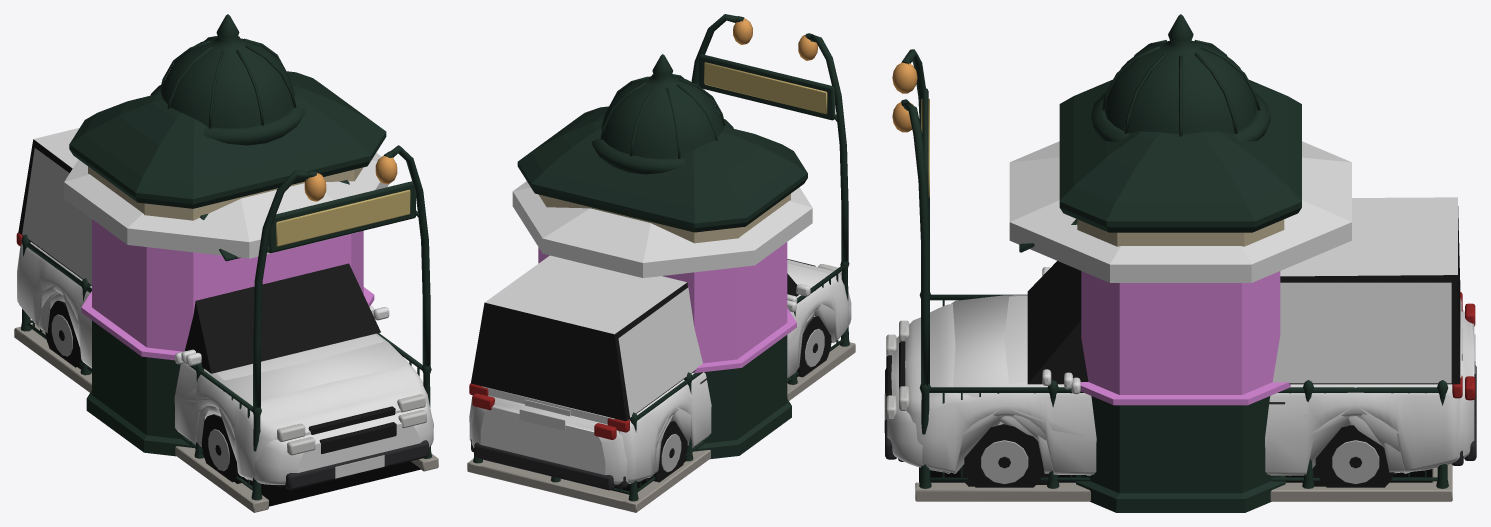
Rendered from street.glb.
3 renders of one model, left to right at view 1: azimuth 30°, elevation 25°; view 2: azimuth 150°, elevation 25°; view 3: azimuth 270°, elevation 25°, orthographic. The views are drawn at different scales.
Visible parts, largest first — view 1: kiosk, car_van_far, car_van, metro, column, car_saloon, parasol, car_saloon_far, parasol_far; view 2: kiosk, car_van_far, car_van, metro, parasol, column, car_saloon, car_saloon_far, parasol_far; view 3: kiosk, car_van_far, car_van, parasol, metro, column, car_saloon, parasol_far, car_saloon_far.
Part boxes in pixels (x1,y1,x2,y2): kiosk: (69, 71, 386, 456); car_van_far: (18, 127, 409, 476); car_van: (16, 146, 431, 487); metro: (14, 145, 438, 512); column: (150, 14, 305, 145); car_saloon: (39, 292, 433, 490); parasol: (64, 153, 381, 258); car_saloon_far: (47, 293, 421, 506); parasol_far: (127, 182, 389, 258); kiosk: (517, 106, 807, 459); car_van_far: (471, 255, 836, 477); car_van: (469, 256, 849, 488); metro: (467, 14, 855, 512); parasol: (513, 181, 812, 277); column: (592, 54, 733, 174); car_saloon: (471, 291, 851, 490); car_saloon_far: (480, 311, 814, 494); parasol_far: (512, 191, 754, 277); kiosk: (1019, 79, 1301, 512); car_van_far: (951, 197, 1461, 475); car_van: (898, 258, 1463, 487); parasol: (1009, 141, 1351, 282); metro: (892, 49, 1452, 501); column: (1091, 14, 1270, 141); car_saloon: (884, 303, 1476, 486); parasol_far: (1009, 222, 1351, 282); car_saloon_far: (887, 323, 1474, 482).
Size of the model in its own units: 2.68 by 3.79 by 4.64.
